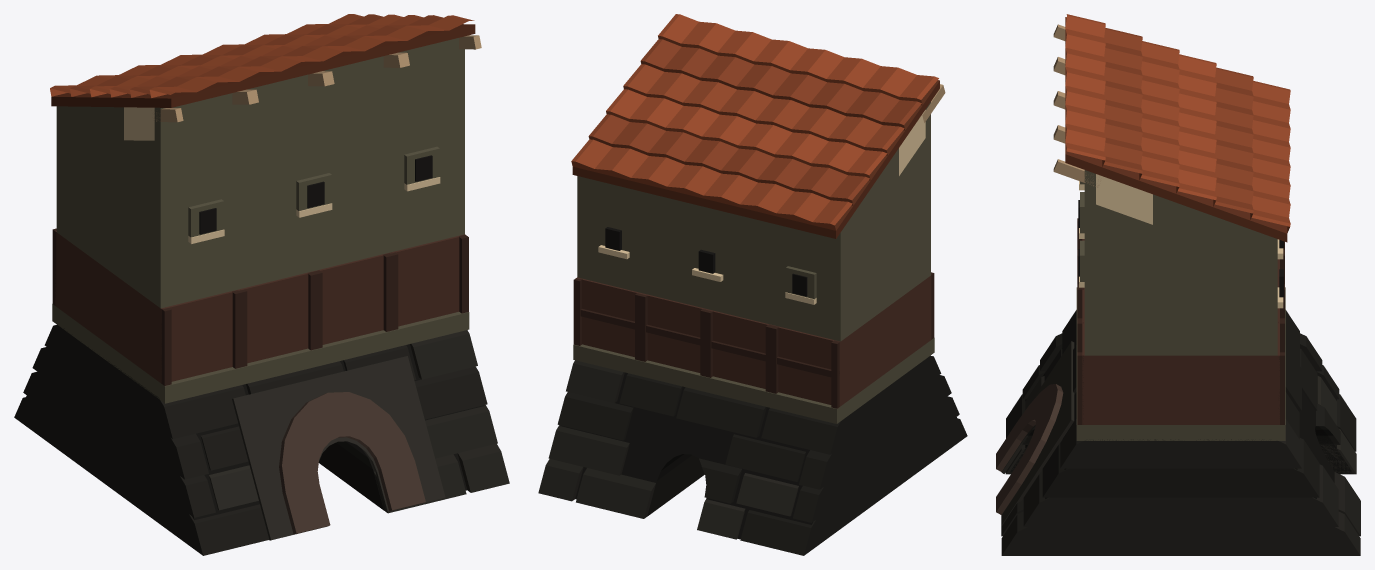
File: VerWall08.glb
3 renders of one model, left to right at view 1: azimuth 30°, elevation 25°; view 2: azimuth 150°, elevation 25°; view 3: azimuth 270°, elevation 25°, orthographic. The views are drawn at different scales.
Parts seen in each view (by area): view 1: VerWall08_mortar; view 2: VerWall08_mortar; view 3: VerWall08_mortar.
Part boxes in pixels (x1,y1,x2,y2): VerWall08_mortar: [14, 14, 509, 555]; VerWall08_mortar: [538, 14, 967, 555]; VerWall08_mortar: [996, 14, 1360, 555].
Size of the model in its own units: 4.05 by 5.57 by 4.54.
